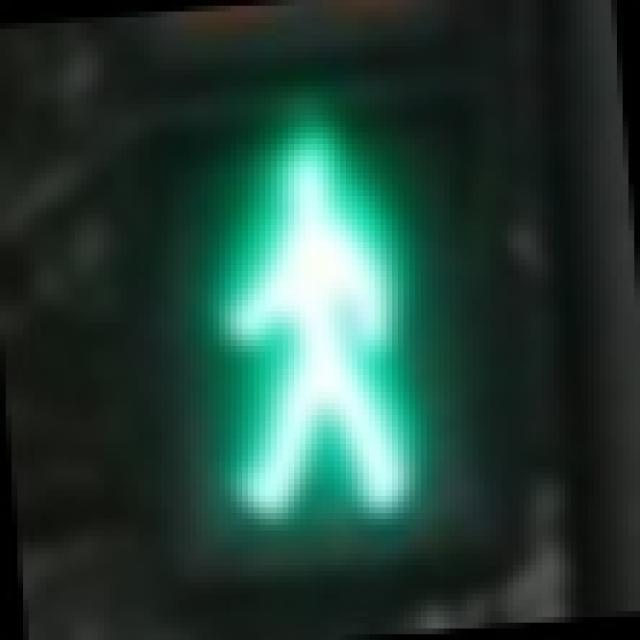geen-crossing: (132, 80, 490, 536)
